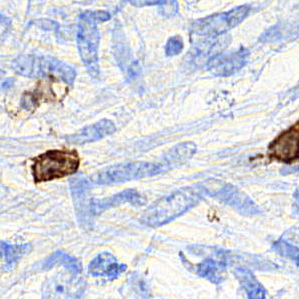Lymphocyte: (30, 149, 82, 184)
